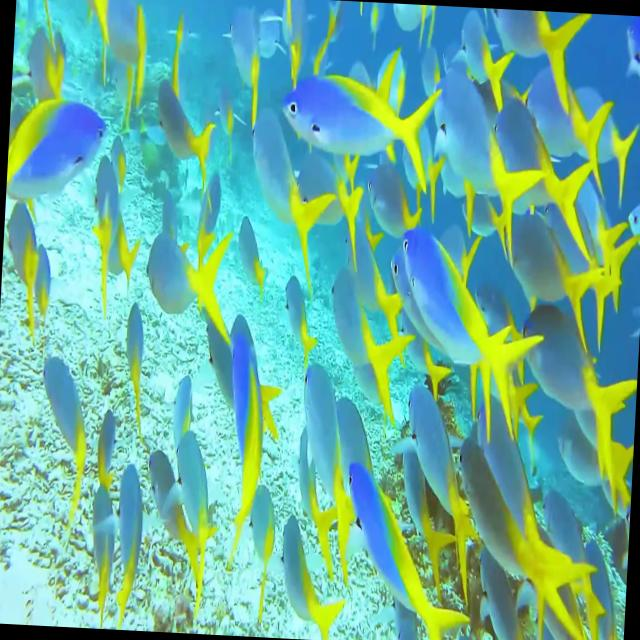fish: (384, 223, 538, 421), (449, 439, 574, 622), (281, 42, 433, 184), (337, 459, 454, 640), (428, 70, 543, 238), (492, 100, 605, 260), (332, 180, 412, 404), (512, 298, 620, 462), (218, 308, 284, 572), (393, 380, 482, 570), (288, 358, 358, 557), (244, 109, 326, 269), (6, 100, 109, 204), (36, 354, 89, 541), (140, 446, 209, 578), (146, 228, 230, 322), (112, 462, 148, 631), (121, 294, 152, 438)
